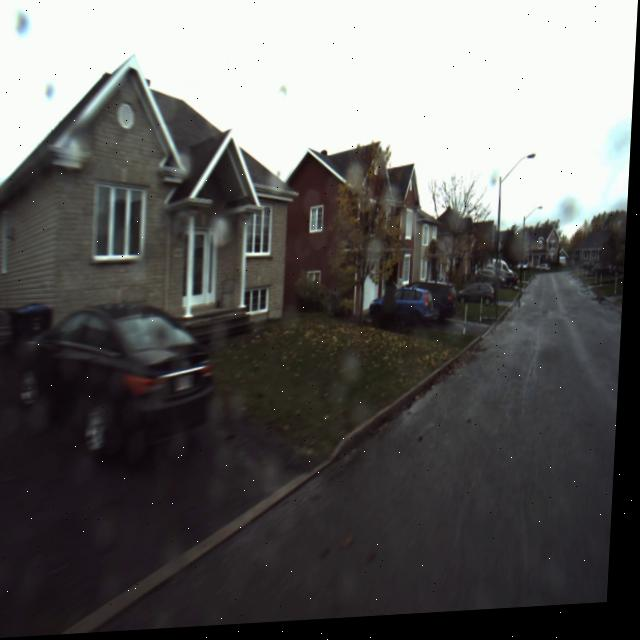car: (366, 286, 441, 338)
